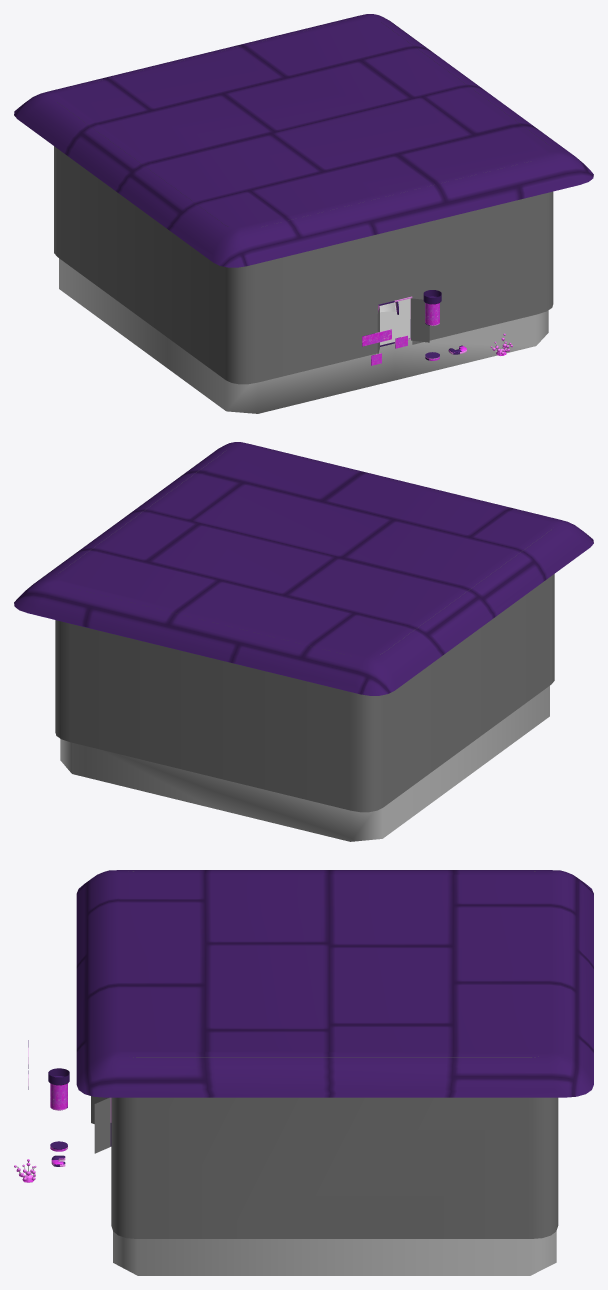
Rendered from PremiumShop 1.fbx.
3 views of the same model, one above another, from view 1: azimuth 30°, elevation 25°; view 2: azimuth 150°, elevation 25°; view 3: azimuth 270°, elevation 25° (orthographic). The views are drawn at different scales.
Parts seen in each view (by area): view 1: Roof, Glass_walls, Floor; view 2: Roof, Glass_walls, Floor; view 3: Roof, Glass_walls, Floor, Cylinder003.
Part boxes in pixels (left/top/right/bottom): Roof: left=14, top=14, right=593, bottom=267; Glass_walls: left=54, top=22, right=553, bottom=384; Floor: left=59, top=258, right=548, bottom=413; Roof: left=14, top=442, right=593, bottom=695; Glass_walls: left=55, top=452, right=554, bottom=812; Floor: left=60, top=686, right=549, bottom=841; Roof: left=76, top=870, right=593, bottom=1097; Glass_walls: left=91, top=871, right=558, bottom=1238; Floor: left=113, top=1231, right=556, bottom=1275; Cylinder003: left=50, top=1083, right=67, bottom=1151.
Size of the model in its own units: 2666 by 1265 by 3022.
